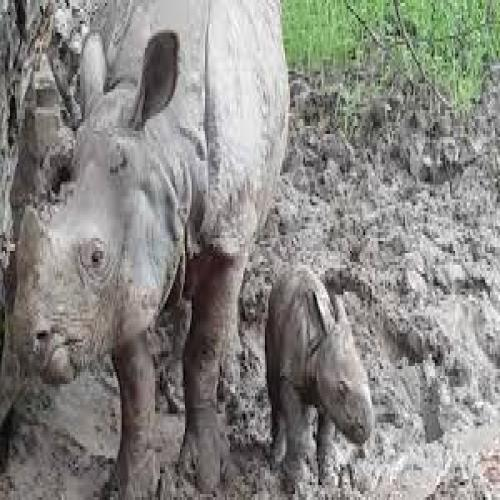rhino-endangered: (10, 0, 290, 500), (265, 261, 374, 490)
